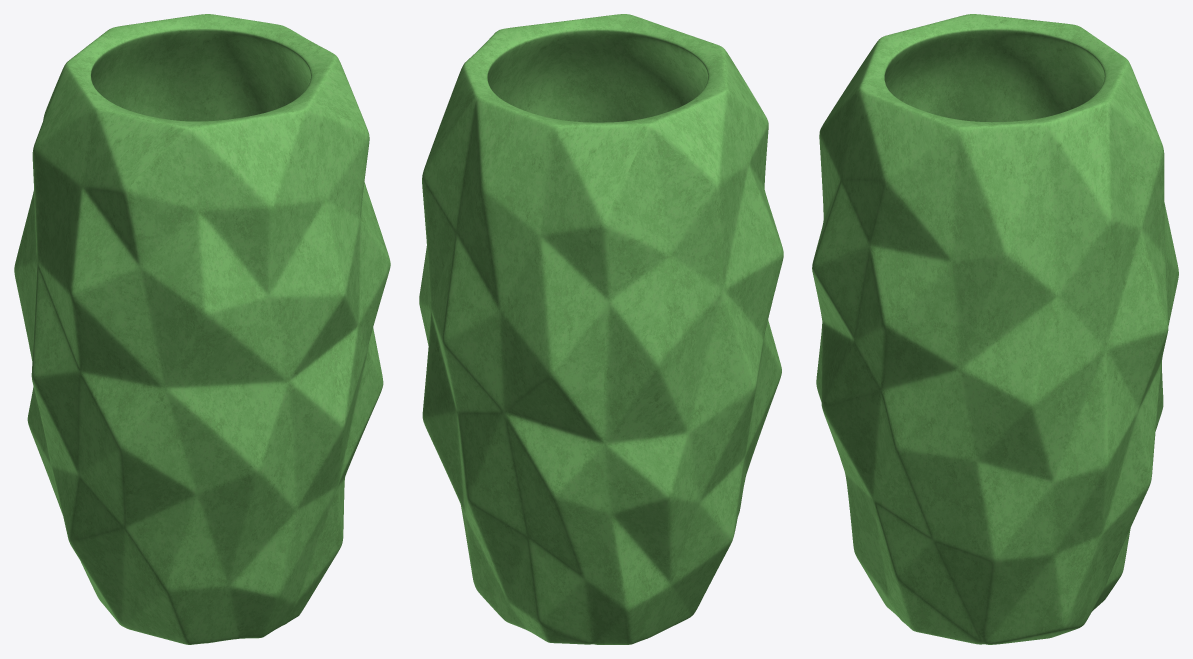
The model's file is pot2.glb.
3 views of the same model, side by side, from view 1: azimuth 30°, elevation 25°; view 2: azimuth 150°, elevation 25°; view 3: azimuth 270°, elevation 25° (orthographic).
Visible parts, largest first — view 1: Vase Crumple N260119; view 2: Vase Crumple N260119; view 3: Vase Crumple N260119.
Boxes of the visible parts, left/top/right/bottom form: Vase Crumple N260119: left=14, top=14, right=390, bottom=644; Vase Crumple N260119: left=419, top=14, right=783, bottom=644; Vase Crumple N260119: left=812, top=14, right=1178, bottom=644.
Size of the model in its own units: 177 by 279 by 173.
1 material, 1 textured.
